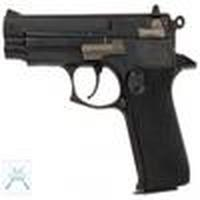gun: (3, 8, 200, 189)
